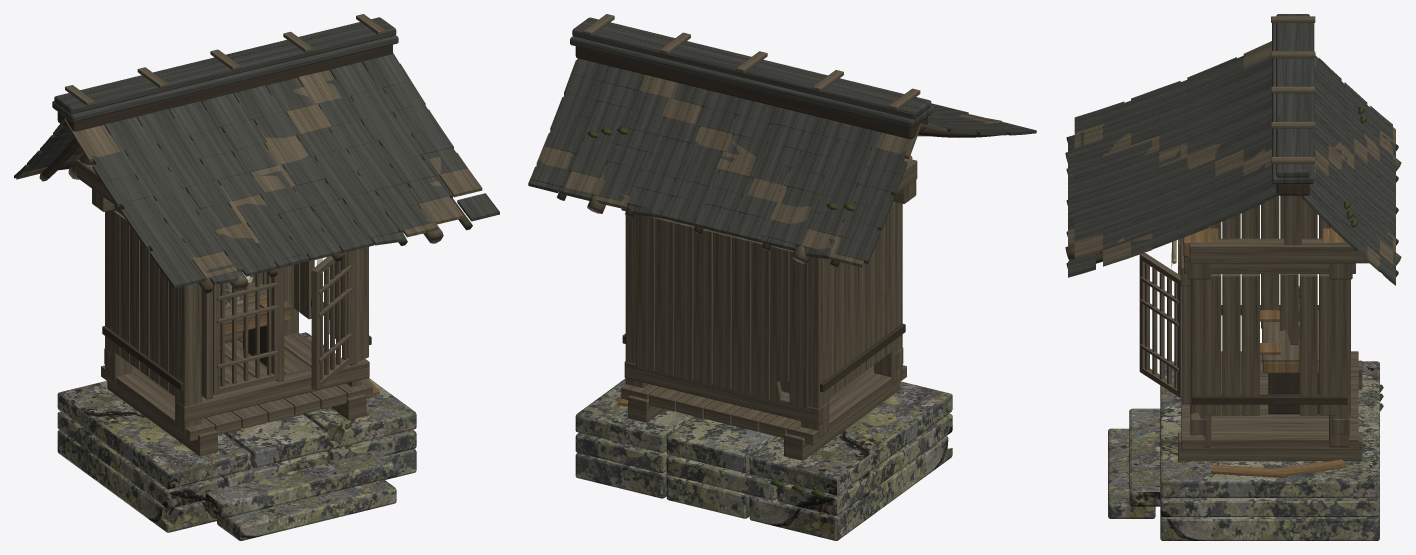
File: sacred_hokora_shrine.glb
3 renders of one model, left to right at view 1: azimuth 30°, elevation 25°; view 2: azimuth 150°, elevation 25°; view 3: azimuth 270°, elevation 25°, orthographic. The views are drawn at different scales.
Visible parts, largest first — view 1: hokora_soaked_shingle_wood_surface, hokora_silvered_cedar_wood_surface, hokora_graded_foundation_stone_surface, hokora_sheltered_wood_surface, hokora_exposed_split_wood_surface; view 2: hokora_silvered_cedar_wood_surface, hokora_soaked_shingle_wood_surface, hokora_graded_foundation_stone_surface, hokora_sheltered_wood_surface; view 3: hokora_silvered_cedar_wood_surface, hokora_soaked_shingle_wood_surface, hokora_graded_foundation_stone_surface, hokora_sheltered_wood_surface, hokora_exposed_split_wood_surface.
Boxes of the visible parts, x1,y1,x2,y2 form: hokora_soaked_shingle_wood_surface: (14, 17, 499, 288); hokora_silvered_cedar_wood_surface: (16, 14, 482, 456); hokora_graded_foundation_stone_surface: (57, 282, 416, 540); hokora_sheltered_wood_surface: (39, 44, 472, 390); hokora_exposed_split_wood_surface: (219, 299, 379, 395); hokora_silvered_cedar_wood_surface: (536, 14, 1002, 460); hokora_soaked_shingle_wood_surface: (528, 17, 1036, 263); hokora_graded_foundation_stone_surface: (575, 378, 952, 540); hokora_sheltered_wood_surface: (557, 46, 1000, 392); hokora_silvered_cedar_wood_surface: (1065, 16, 1401, 461); hokora_soaked_shingle_wood_surface: (1068, 14, 1395, 285); hokora_graded_foundation_stone_surface: (1108, 286, 1379, 540); hokora_sheltered_wood_surface: (1066, 137, 1398, 413); hokora_exposed_split_wood_surface: (1183, 228, 1346, 477).
Size of the model in its own units: 2.11 by 2.45 by 1.9.
Materials: 8 (8 with a texture image).
